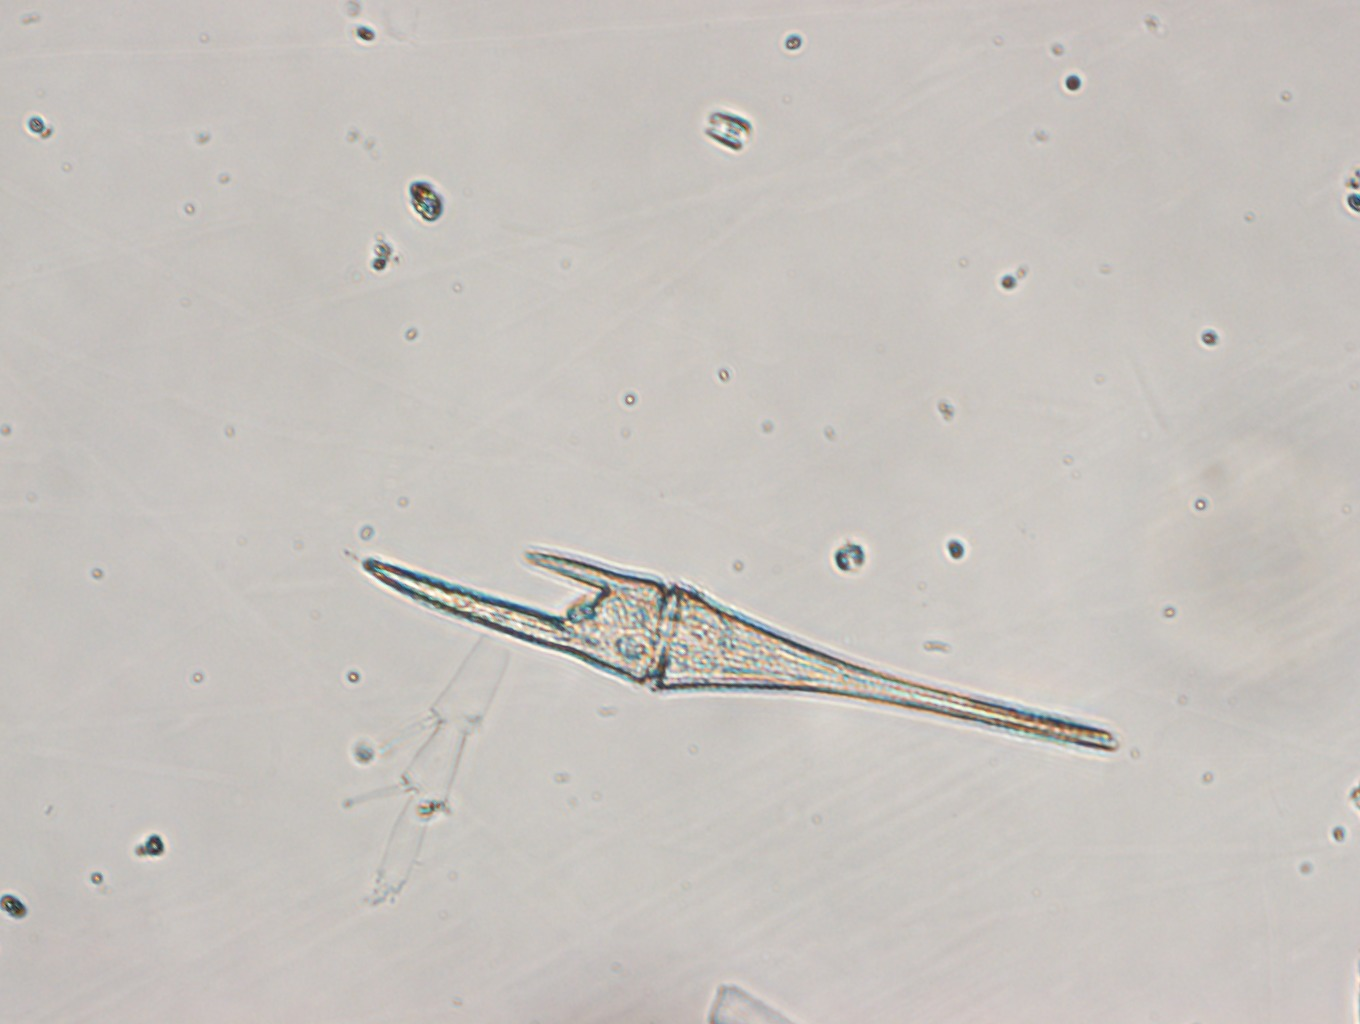ceratium furca: (356, 540, 1120, 757)
